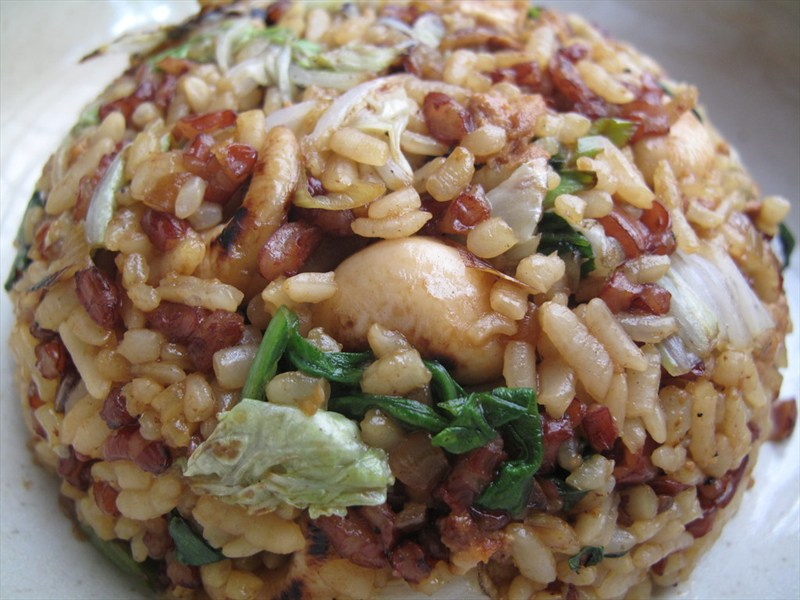Nasi Goreng: (97, 59, 683, 521)
